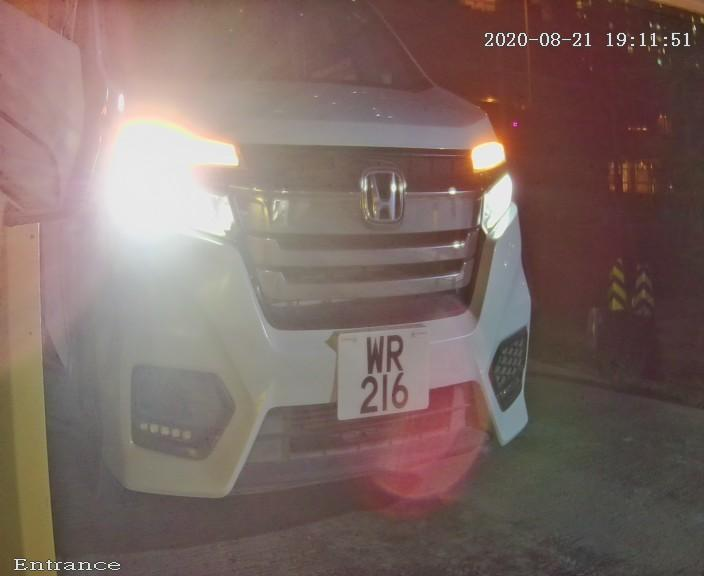Car: (23, 1, 604, 576)
License Plate: (324, 312, 437, 440)
